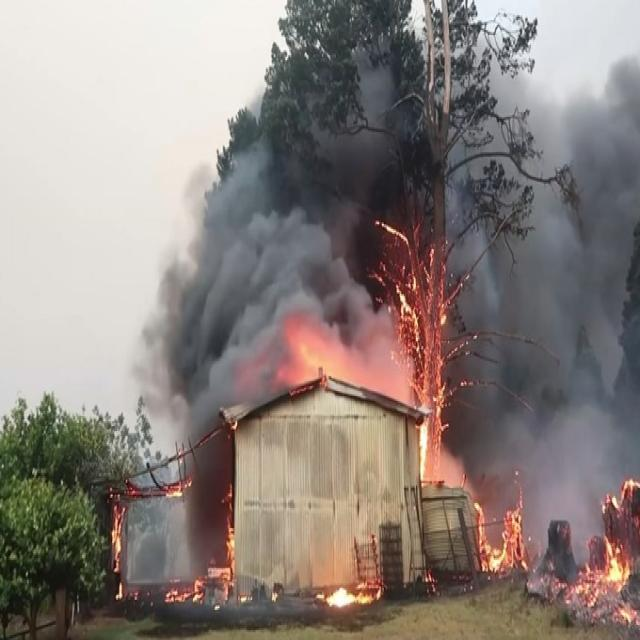Fire: (328, 580, 362, 614), (301, 346, 339, 376)
Smoke: (492, 247, 604, 426), (206, 234, 278, 332)
